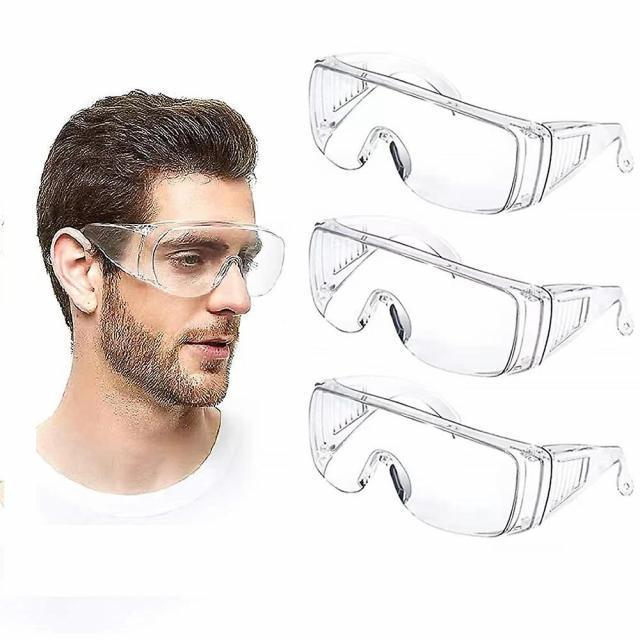Goggles: (295, 32, 640, 215), (300, 214, 628, 378), (291, 382, 640, 536), (69, 209, 298, 315)
